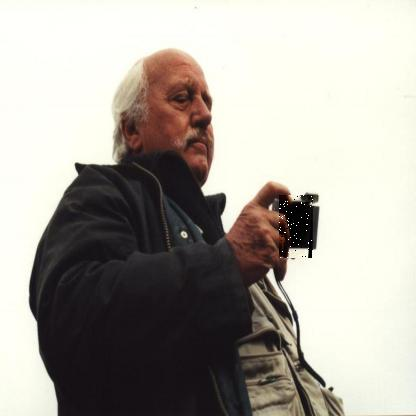Camera: (281, 196, 317, 260)
